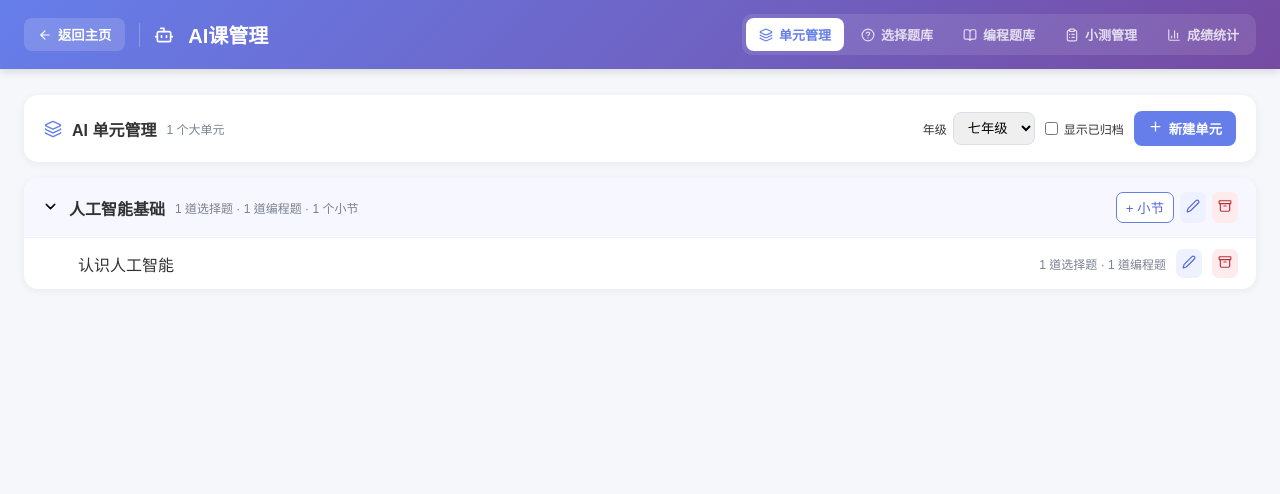
Test: AI 教师管理 Step 7 › 编程题库保留归类筛选、可组卷状态和编辑入口
Click the tab "编程题库". click: (999, 34)
box: [950,18,1048,51]
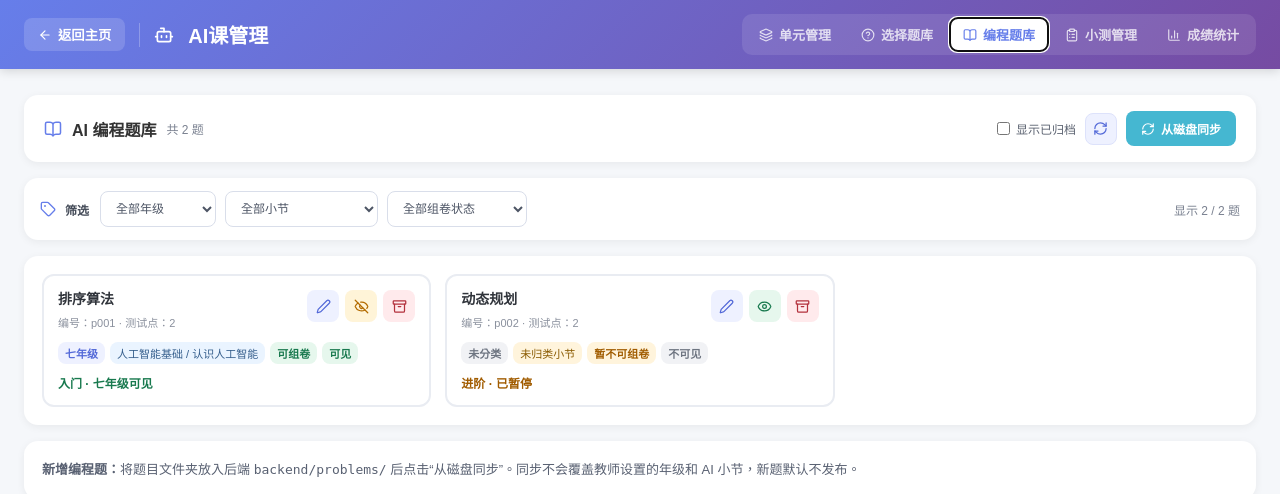
Result: the text "排序算法" is shown at [58,291,114,307]
Result: the text "人工智能基础 / 认识人工智能" is shown at [110,342,265,364]
Select "未归类到小节" in the dropdown named "所属 AI 小节筛选". click: (302, 209)
box: [225,191,378,227]
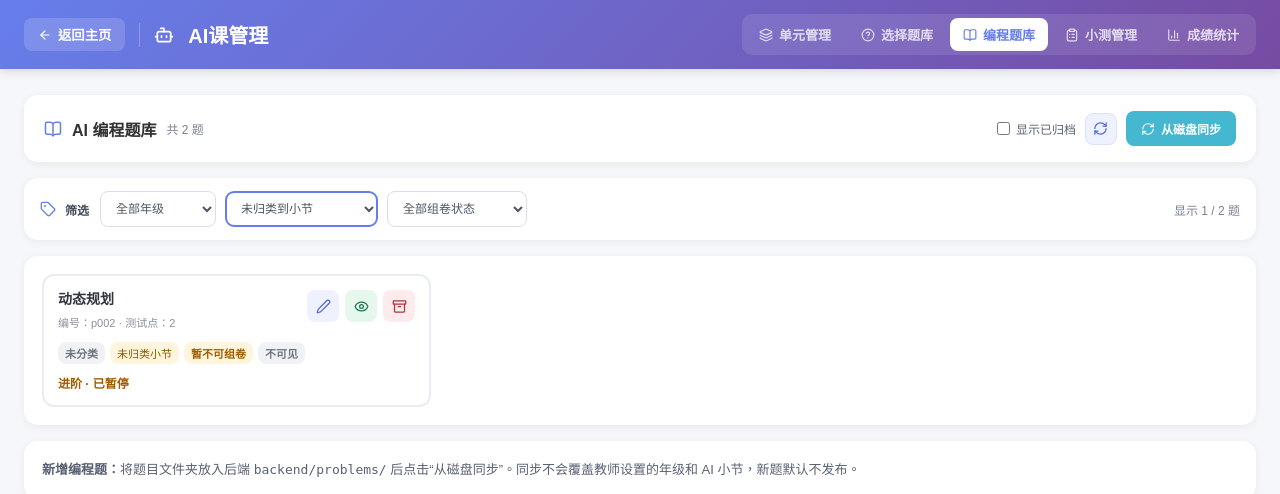
Result: the text "动态规划" is shown at [58,291,114,307]
Result: the text "排序算法" is gone
